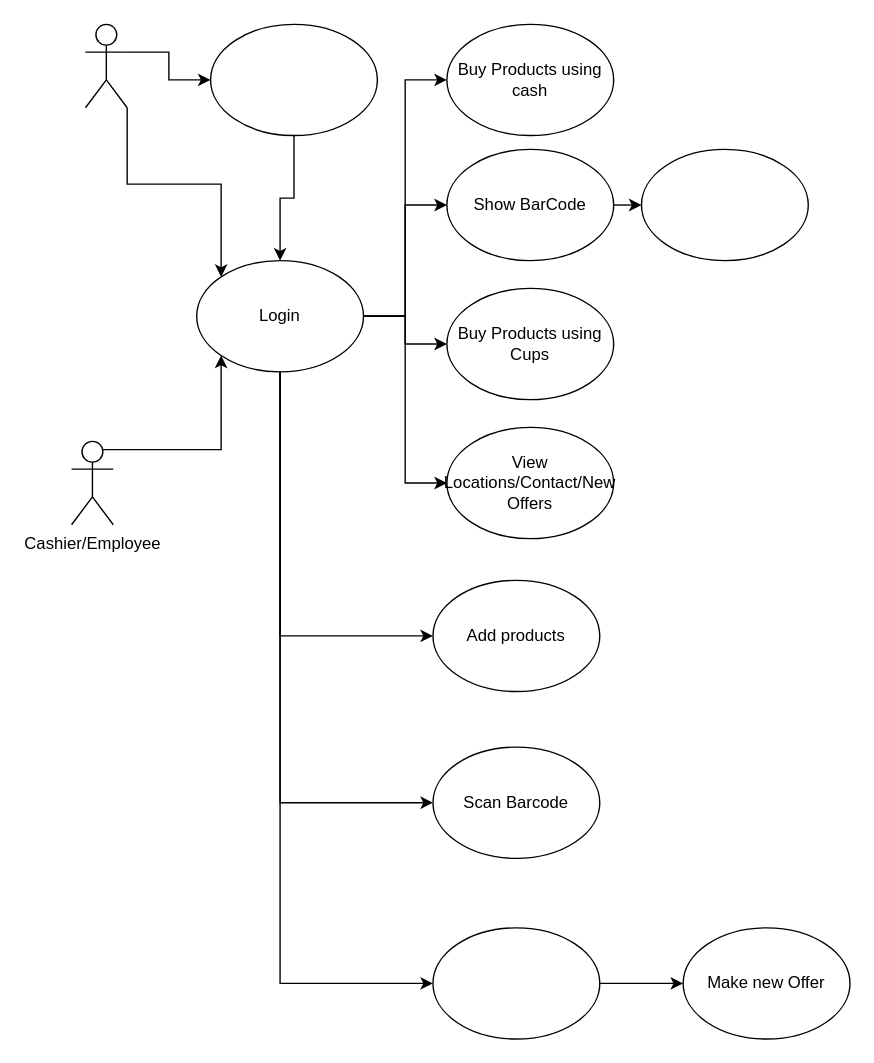
Some shapes in this 874 by 1063 pixel diagram are drawn without their labels. The centre of each missing label's shape, as x and y in pixels:
"Client" goes at point 105,65.
"Modify products" goes at point 516,982.
"Receive Cups" goes at point 724,204.
"SignUp" goes at point 293,79.
